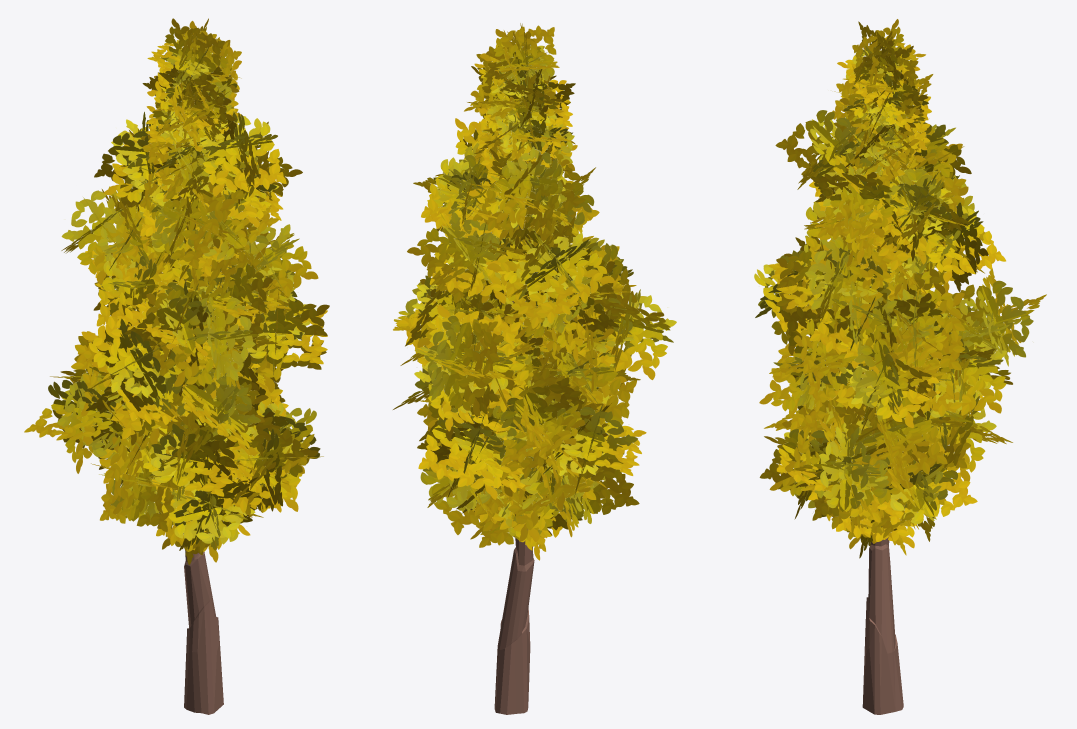
Rendered from SM_Tree_01.glb.
3 renders of one model, left to right at view 1: azimuth 30°, elevation 25°; view 2: azimuth 150°, elevation 25°; view 3: azimuth 270°, elevation 25°, orthographic.
Visible parts, largest first — view 1: SM_Tree_01; view 2: SM_Tree_01; view 3: SM_Tree_01.
Boxes of the visible parts, x1=… form: SM_Tree_01: x1=24, y1=18, x2=329, y2=714; SM_Tree_01: x1=393, y1=23, x2=676, y2=714; SM_Tree_01: x1=754, y1=19, x2=1046, y2=714.
Bounding box in the file's own units: 5.54 × 12.66 × 5.65.
Materials: 2 (1 with a texture image).
